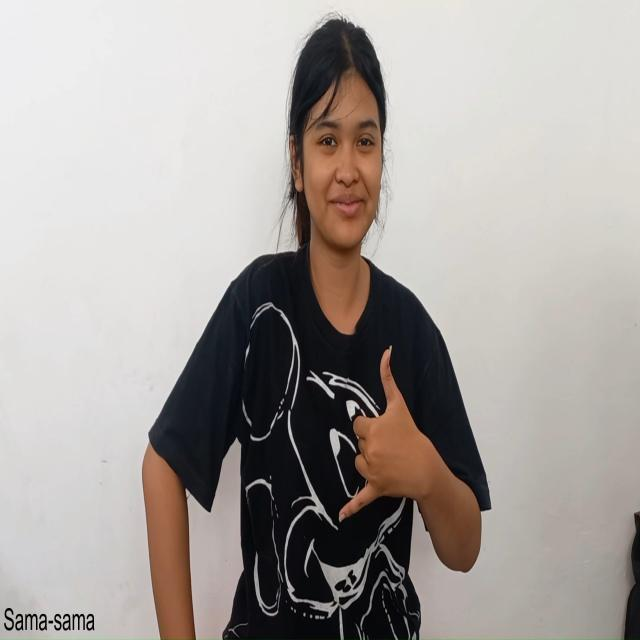Sama-sama -BISINDO-: (334, 338, 436, 532)
